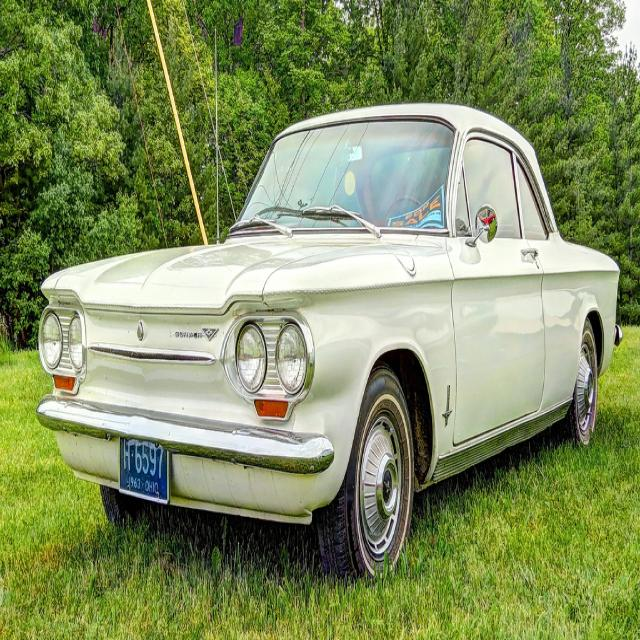car: (37, 101, 622, 589)
